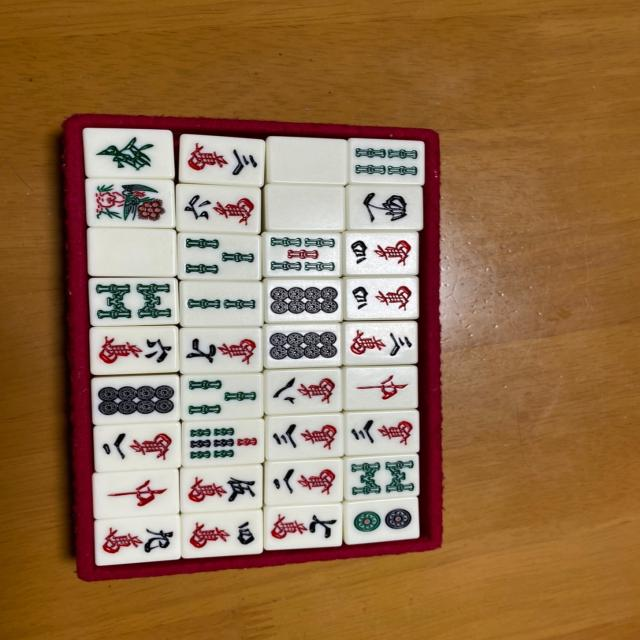bamboos_1: (85, 176, 178, 228)
bamboos_2: (180, 278, 264, 327)
bamboos_3: (175, 230, 262, 282), (177, 372, 267, 422)
bamboos_4: (350, 138, 426, 182)
bamboos_5: (262, 232, 344, 278)
bamboos_7: (180, 417, 266, 469)
bamboos_8: (86, 273, 178, 324), (345, 454, 421, 504)
characters_2: (92, 420, 182, 473), (262, 458, 346, 508)
characters_3: (180, 134, 266, 188), (263, 413, 347, 464), (343, 319, 421, 367), (344, 410, 418, 458)
characters_4: (182, 508, 264, 560), (342, 230, 420, 277), (345, 273, 419, 321)
characters_5: (180, 464, 264, 514)
characters_6: (88, 323, 178, 376), (176, 182, 262, 234)
characters_7: (180, 326, 266, 376), (262, 502, 346, 549)
characters_8: (262, 367, 344, 417)
characters_9: (92, 514, 182, 568)
circles_2: (342, 498, 418, 544)
circles_8: (92, 374, 182, 426), (262, 322, 346, 372), (265, 277, 343, 323)
green: (86, 128, 177, 182)
red: (92, 468, 181, 520), (343, 364, 421, 412)
west: (342, 185, 422, 230)
white: (86, 226, 176, 278), (264, 135, 348, 186), (262, 182, 346, 232)
